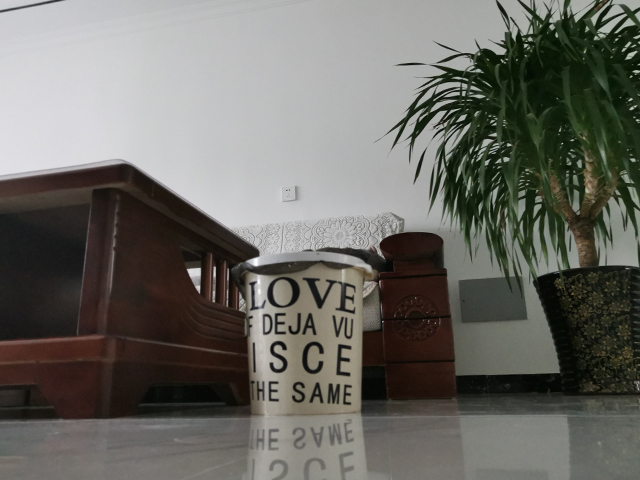sofa: (233, 210, 460, 403)
table: (1, 156, 261, 421)
trashcan: (231, 249, 374, 418)
